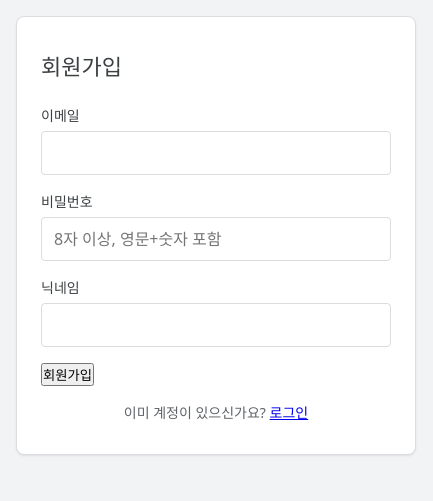
SignupPage › 409 중복 이메일 에러 메시지 표시
The image size is (433, 501).
Type "dup@test.com" into the field labelled "이메일". click: (216, 153)
box: [41,131,391,175]
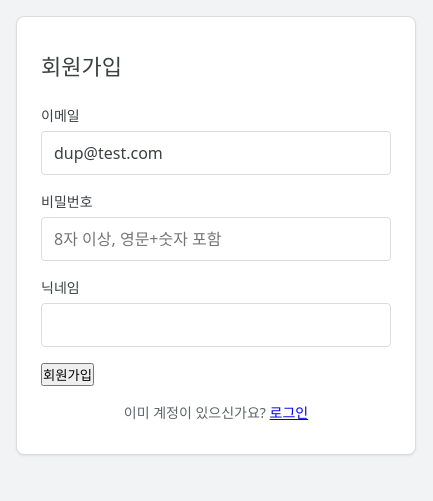
Type "pass1234" into the password field labelled "비밀번호". click: (216, 239)
box: [41,217,391,261]
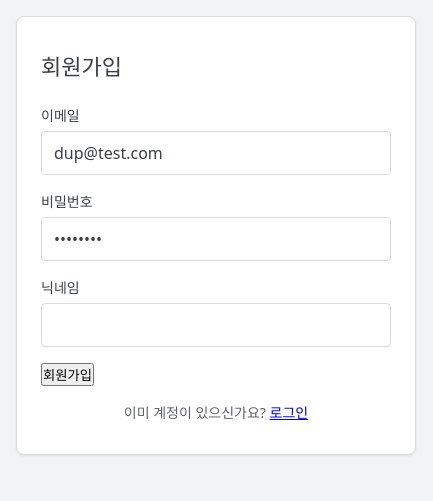
Type "중복" into the field labelled "닉네임". click: (216, 325)
box: [41,303,391,347]
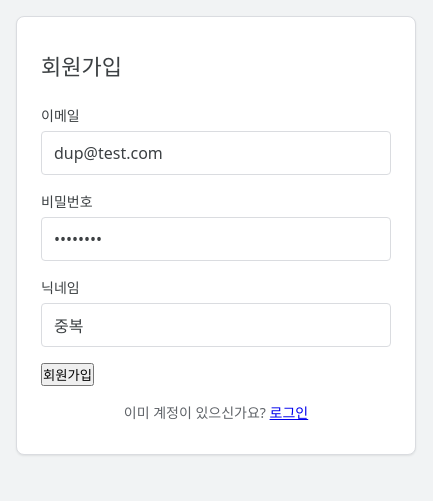
Click the button "회원가입". click: (68, 374)
box: [41,363,94,386]
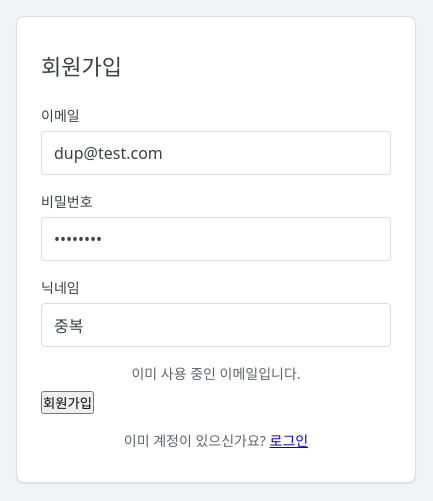
Expected: the text "이미 사용 중인 이메일입니다." is shown, [131,364,301,383]
